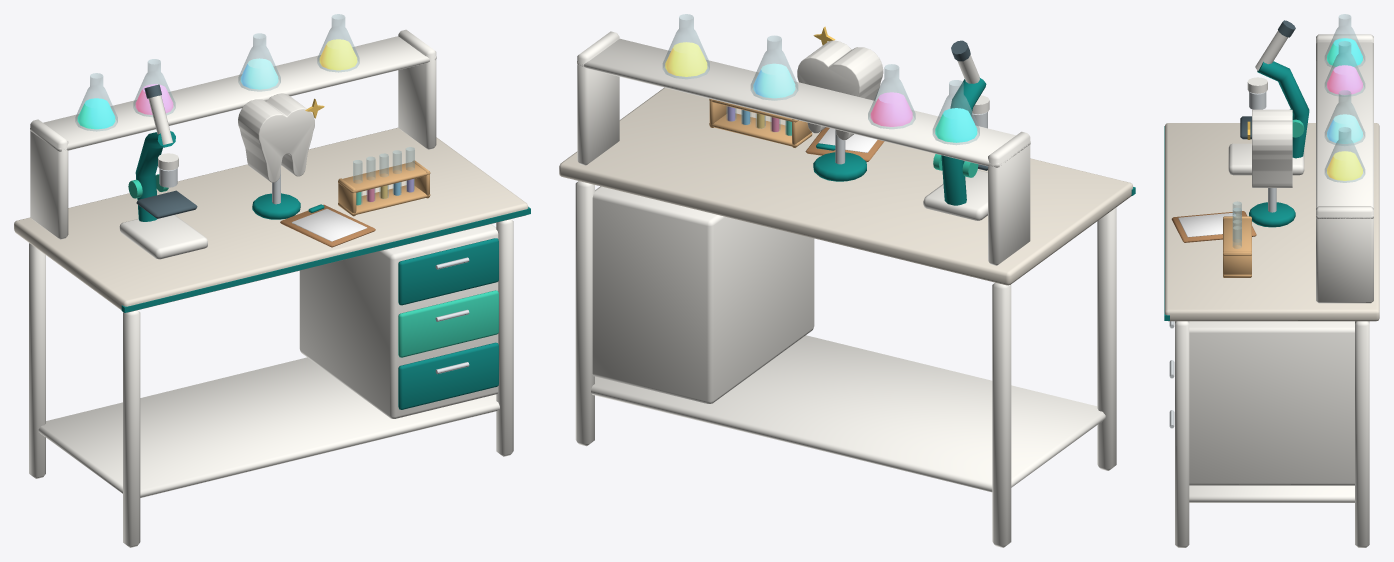
The model's file is research_desk.glb.
3 renders of one model, left to right at view 1: azimuth 30°, elevation 25°; view 2: azimuth 150°, elevation 25°; view 3: azimuth 270°, elevation 25°, orthographic. The views are drawn at different scales.
Parts seen in each view (by area): view 1: ResearchDesk; view 2: ResearchDesk; view 3: ResearchDesk.
Boxes of the visible parts, x1,y1,x2,y2 form: ResearchDesk: (14, 14, 530, 547); ResearchDesk: (559, 14, 1135, 547); ResearchDesk: (1164, 14, 1379, 547).
Size of the model in its own units: 1.54 by 1.47 by 0.742.
